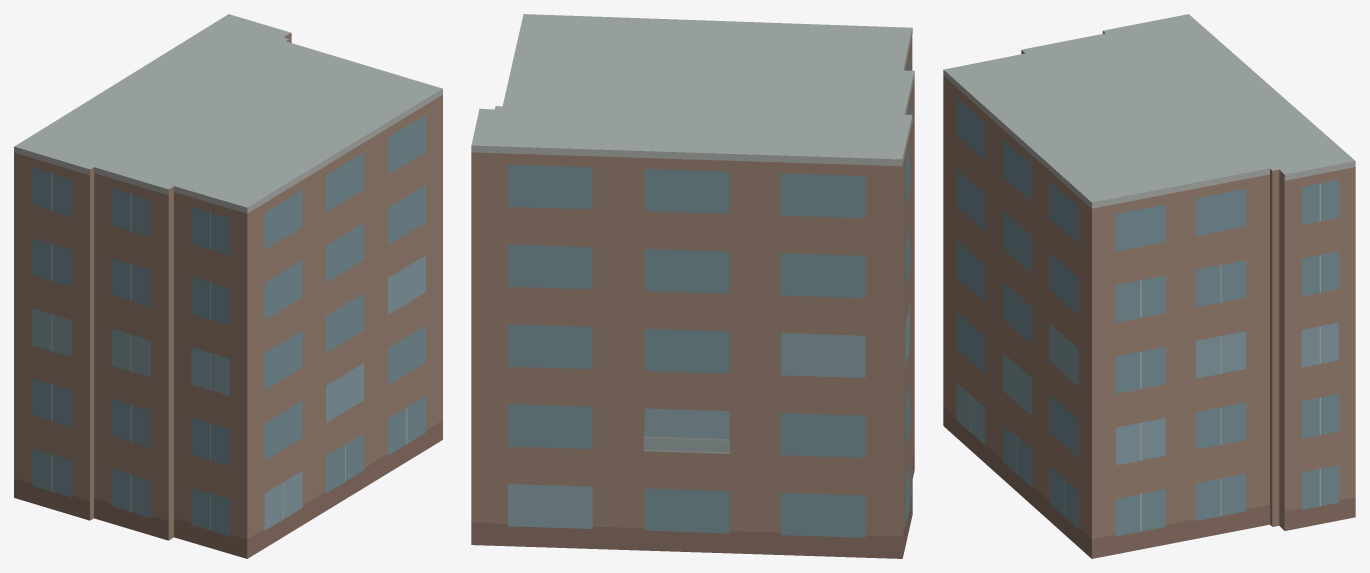
Rendered from survey-upis-32732543.glb.
3 renders of one model, left to right at view 1: azimuth 30°, elevation 25°; view 2: azimuth 150°, elevation 25°; view 3: azimuth 270°, elevation 25°, orthographic. The views are drawn at different scales.
Parts seen in each view (by area): view 1: survey-upis-32732543.tmp; view 2: survey-upis-32732543.tmp; view 3: survey-upis-32732543.tmp.
Part boxes in pixels (x1,y1,x2,y2): survey-upis-32732543.tmp: [14, 14, 442, 558]; survey-upis-32732543.tmp: [471, 14, 914, 558]; survey-upis-32732543.tmp: [943, 14, 1355, 558].
Size of the model in its own units: 16.25 by 14.3 by 15.
